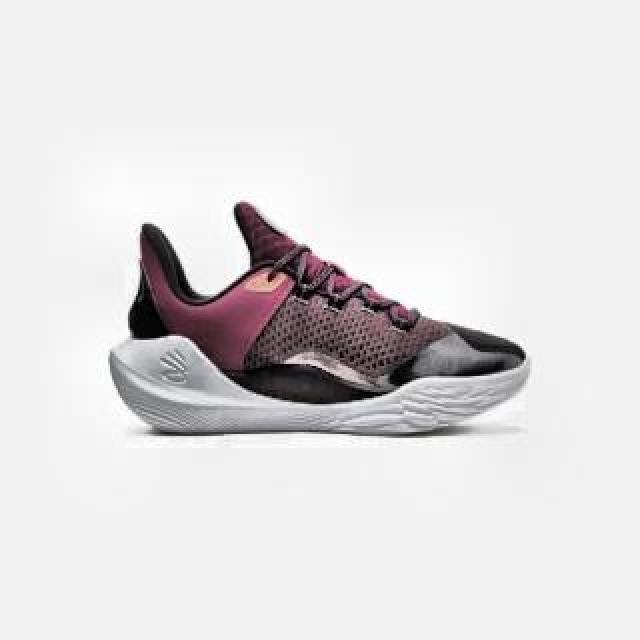shoe: (110, 201, 532, 437)
